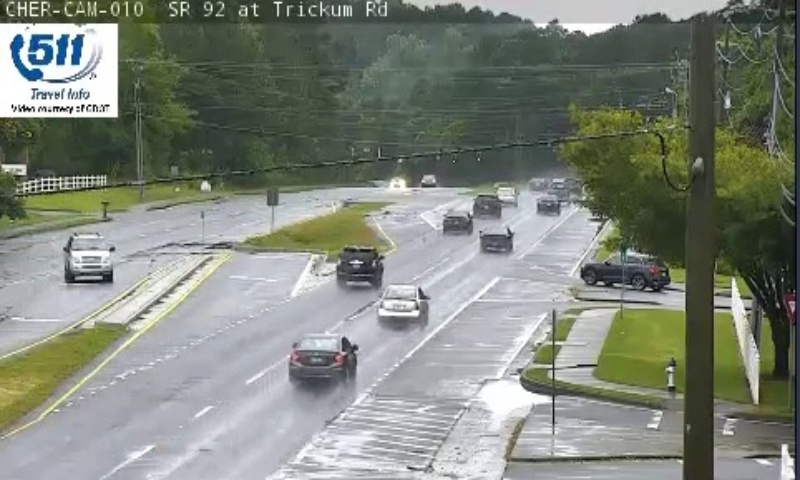car: (288, 333, 355, 380), (376, 285, 428, 321), (335, 245, 381, 283), (479, 225, 512, 249), (442, 211, 470, 232), (473, 193, 497, 216), (536, 194, 559, 214)
